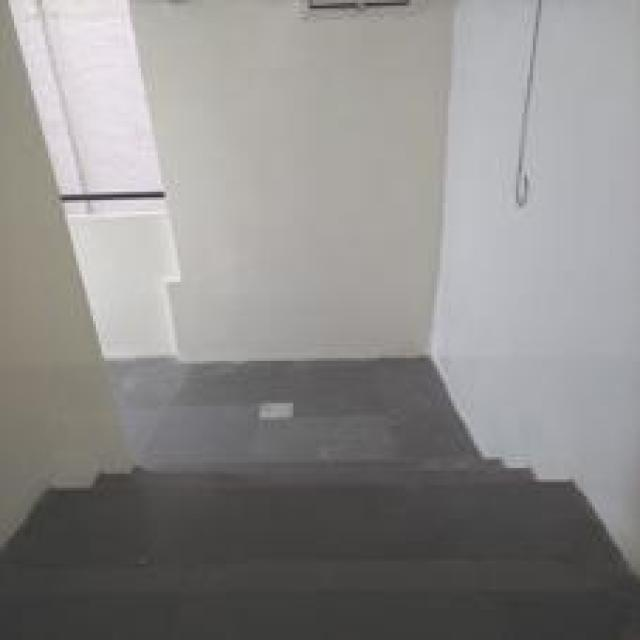stair: (19, 329, 597, 588)
